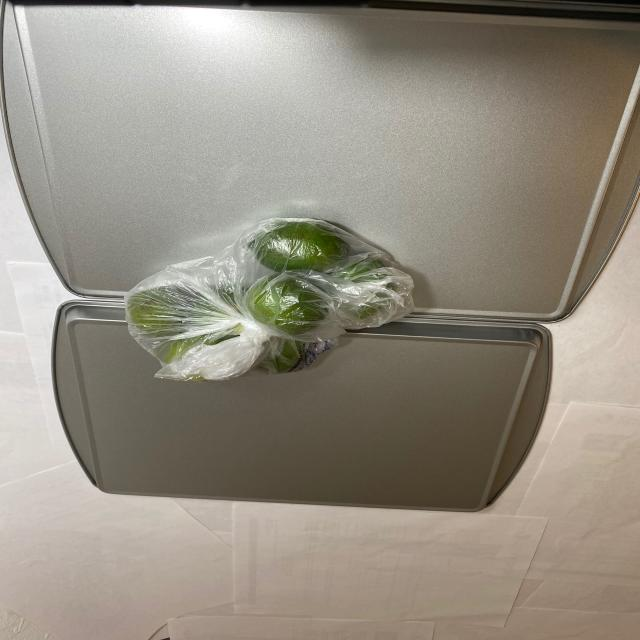lemon: (126, 226, 420, 376)
